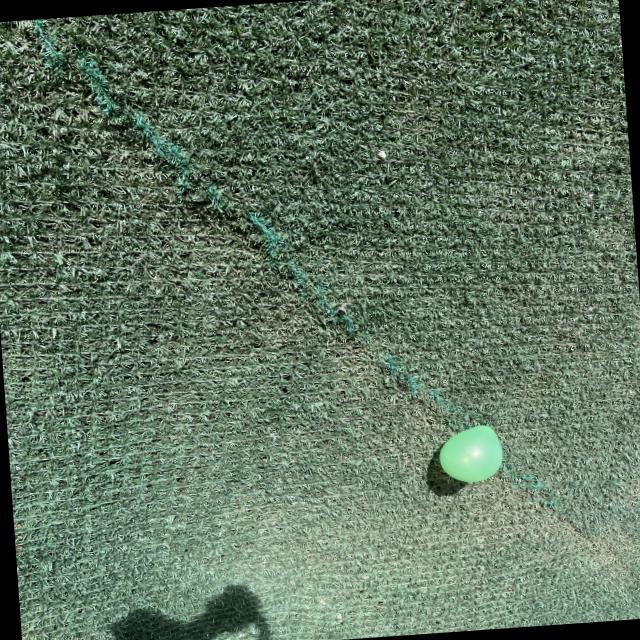balloon: (439, 425, 502, 482)
